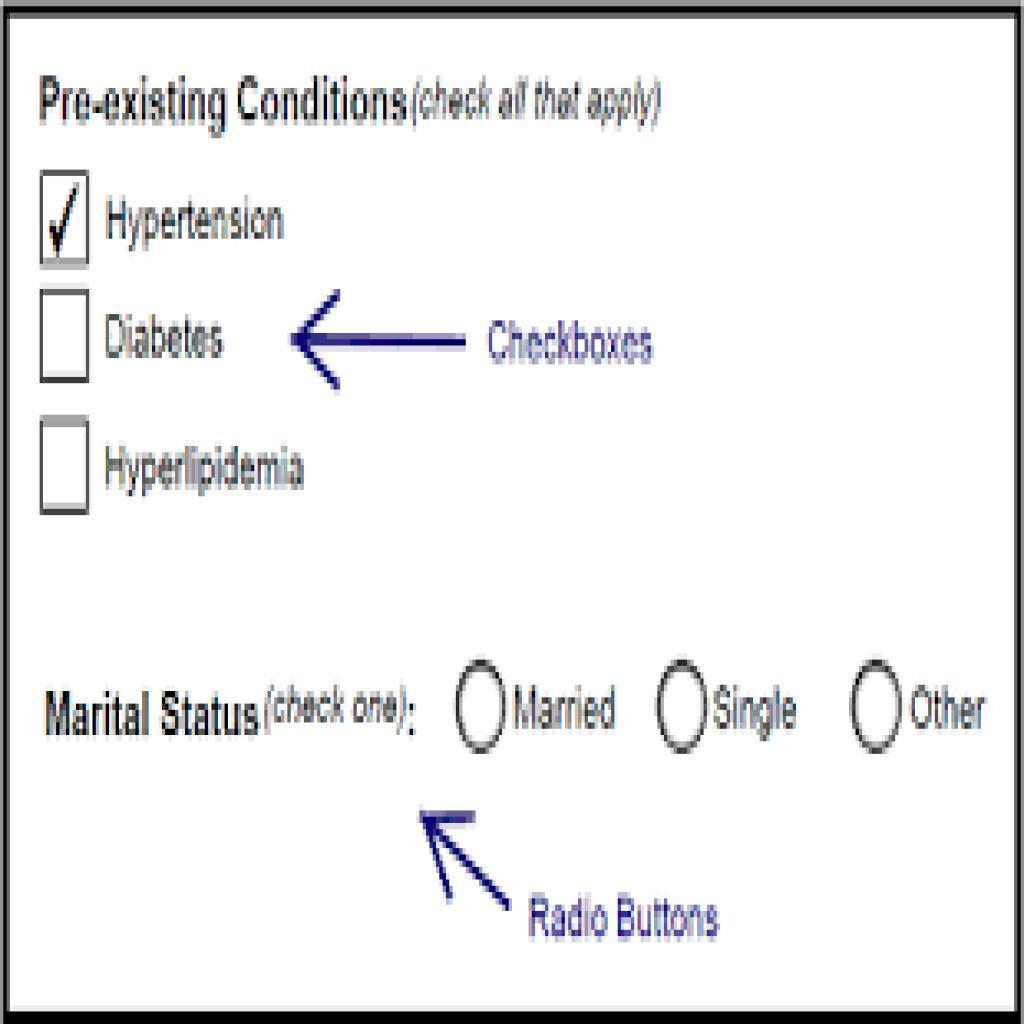checkbox: (39, 172, 91, 266), (42, 288, 92, 385), (38, 421, 90, 513)
label: (102, 441, 315, 496), (102, 189, 295, 243), (102, 305, 230, 374), (509, 679, 622, 738), (717, 679, 804, 739), (910, 684, 988, 735)
radio: (847, 659, 905, 757), (657, 656, 712, 755), (455, 661, 507, 762)
